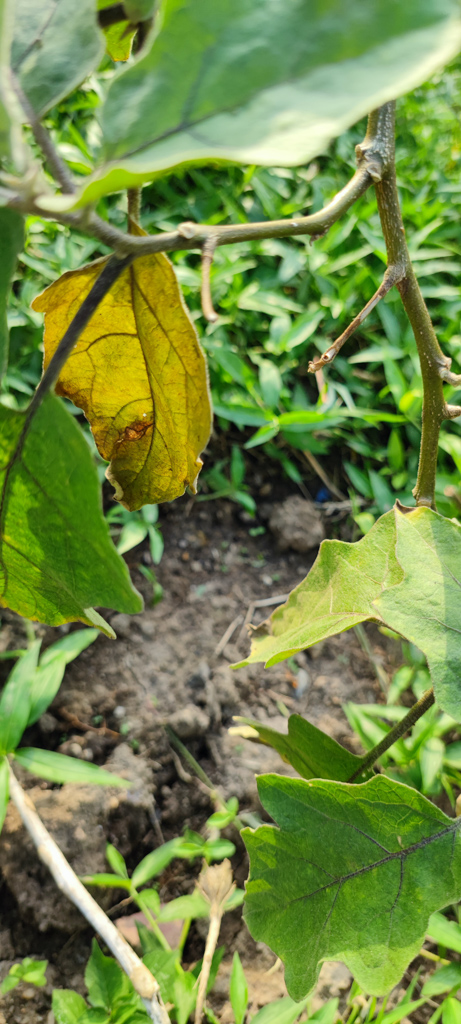Pepper yellow leaf: (32, 234, 235, 528)
